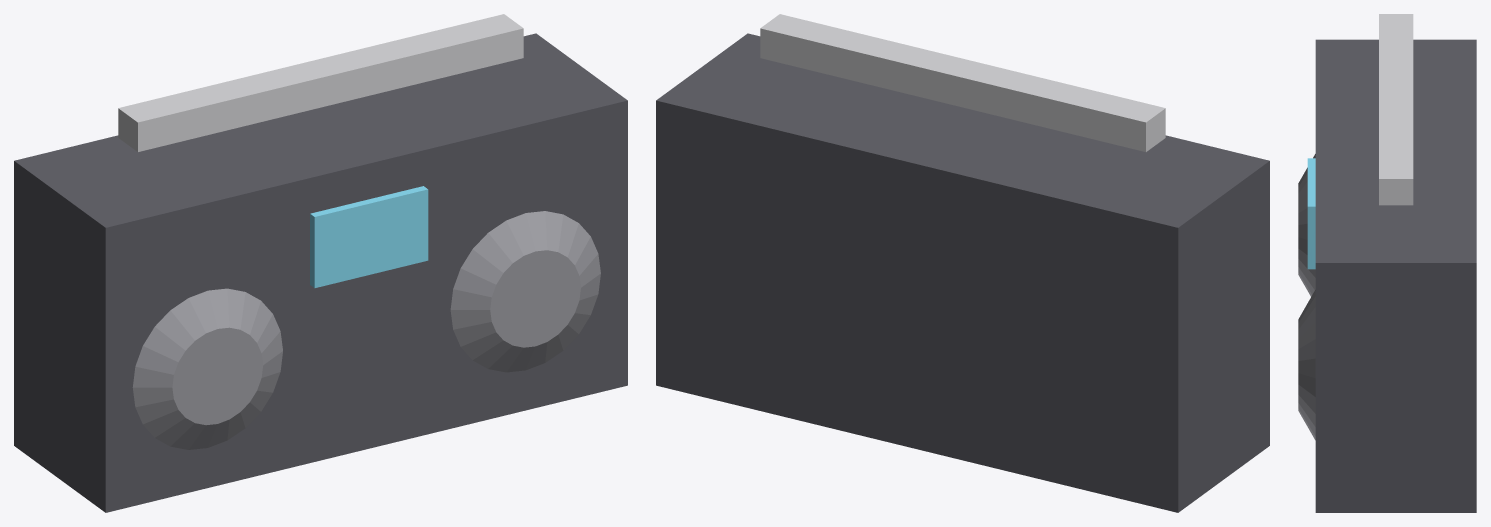
File: boombox.glb
3 views of the same model, side by side, from view 1: azimuth 30°, elevation 25°; view 2: azimuth 150°, elevation 25°; view 3: azimuth 270°, elevation 25° (orthographic). The views are drawn at different scales.
Visible parts, largest first — view 1: boombox; view 2: boombox; view 3: boombox.
Boxes of the visible parts, box(x1,y1,x2,y2) form: boombox: box(14, 14, 627, 512); boombox: box(656, 14, 1269, 512); boombox: box(1298, 14, 1476, 512).
Bounding box in the file's own units: 0.46 × 0.2925 × 0.155.
